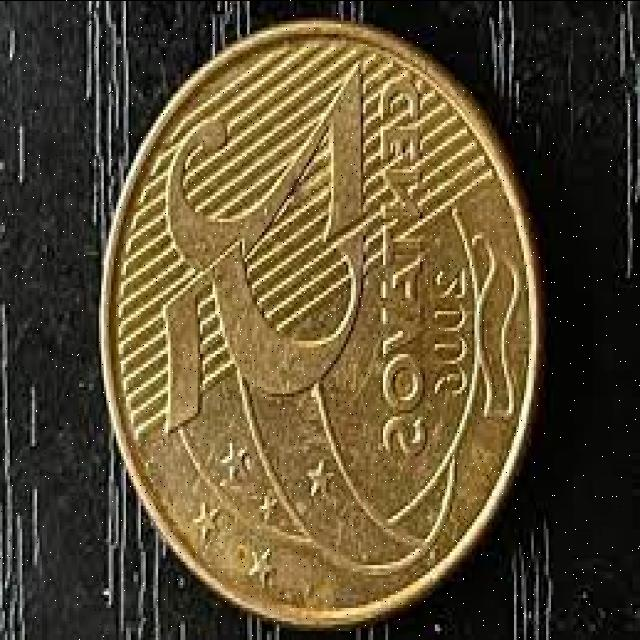25 cent: (110, 27, 536, 620)
